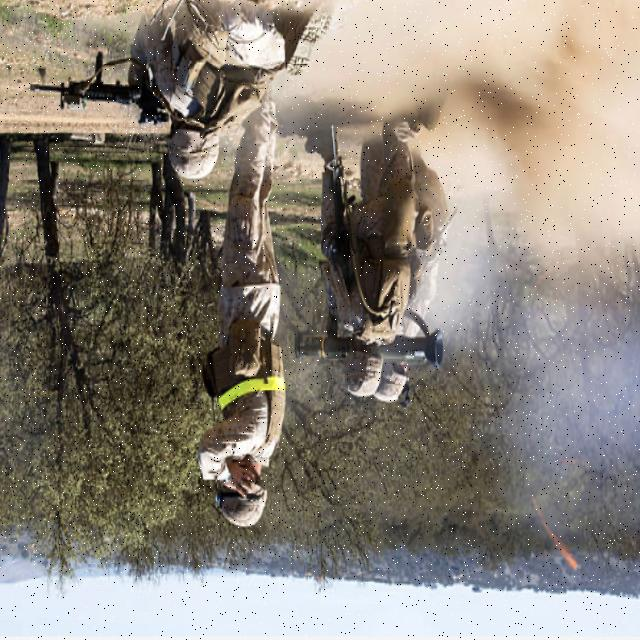bazooka: (294, 327, 444, 373)
